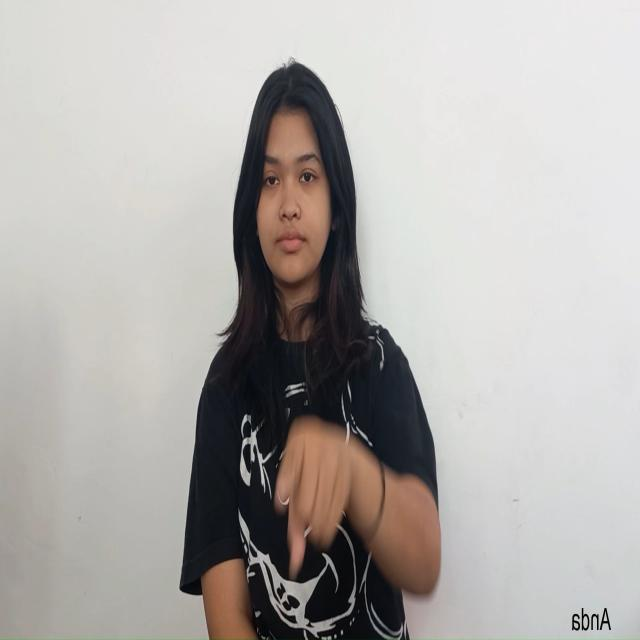Anda -BISINDO-: (271, 409, 367, 584)
